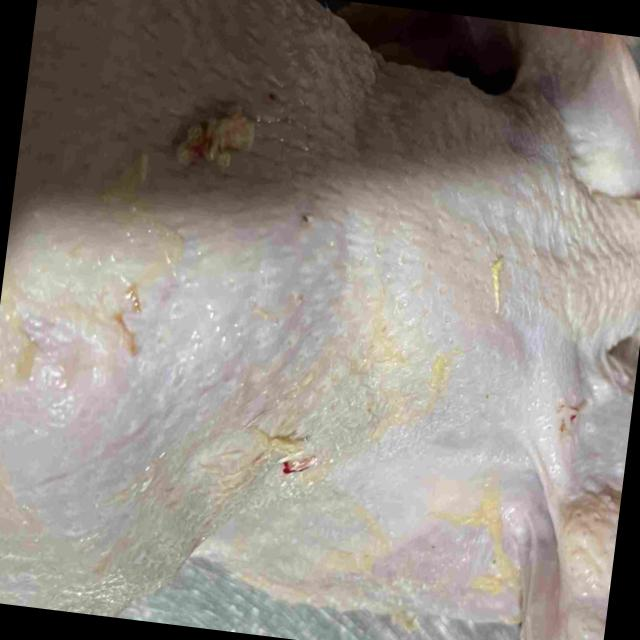leg: (0, 486, 181, 616)
neck: (593, 175, 640, 361)
wing: (527, 366, 636, 640), (475, 17, 640, 171)
